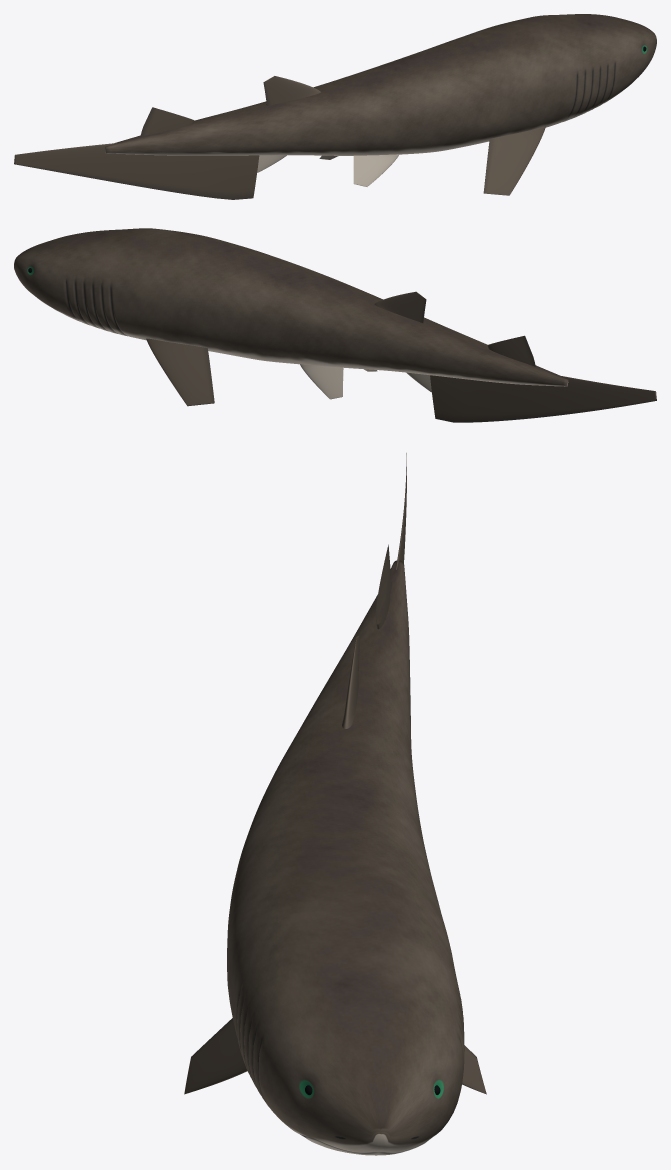
The model's file is bluntnose_sixgill_shark.glb.
The picture shows the model from 3 angles, top to bottom: view 1: azimuth 30°, elevation 25°; view 2: azimuth 150°, elevation 25°; view 3: azimuth 270°, elevation 25°; orthographic projection. The views are drawn at different scales.
Parts seen in each view (by area): view 1: BluntnoseSixgillShark_Body, BluntnoseSixgillShark_Fins; view 2: BluntnoseSixgillShark_Body, BluntnoseSixgillShark_Fins; view 3: BluntnoseSixgillShark_Body, BluntnoseSixgillShark_Fins.
Boxes of the visible parts, bbox=[...] form: BluntnoseSixgillShark_Body: bbox=[105, 14, 656, 155]; BluntnoseSixgillShark_Fins: bbox=[14, 76, 545, 199]; BluntnoseSixgillShark_Body: bbox=[14, 228, 568, 386]; BluntnoseSixgillShark_Fins: bbox=[146, 291, 656, 422]; BluntnoseSixgillShark_Body: bbox=[227, 560, 464, 1155]; BluntnoseSixgillShark_Fins: bbox=[184, 453, 486, 1094].
Bounding box in the file's own units: 3.5 × 0.7124 × 0.7228.
Materials: 3 (1 with a texture image).
